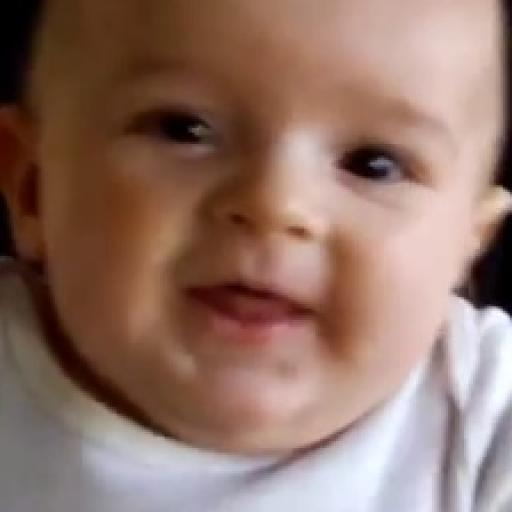Autism: (15, 12, 494, 478)
